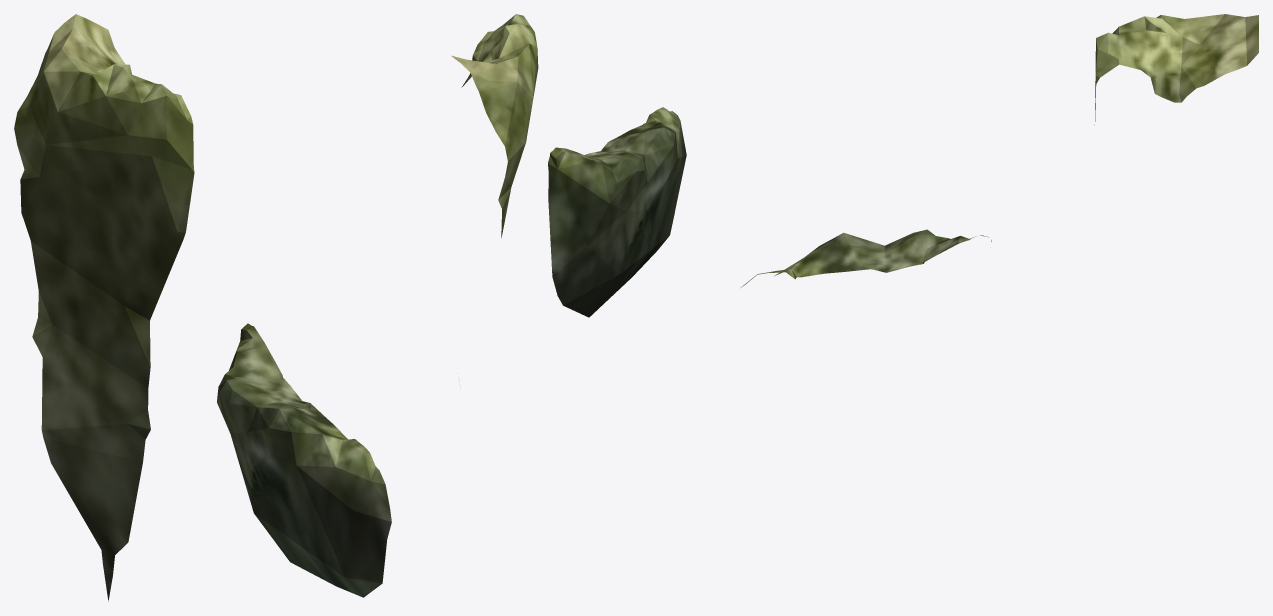
The picture shows the model from 3 angles, left to right: view 1: azimuth 30°, elevation 25°; view 2: azimuth 150°, elevation 25°; view 3: azimuth 270°, elevation 25°; orthographic projection. The views are drawn at different scales.
Size of the model in its own units: 0.3803 by 2.29 by 1.98.
1 material, 1 textured.
